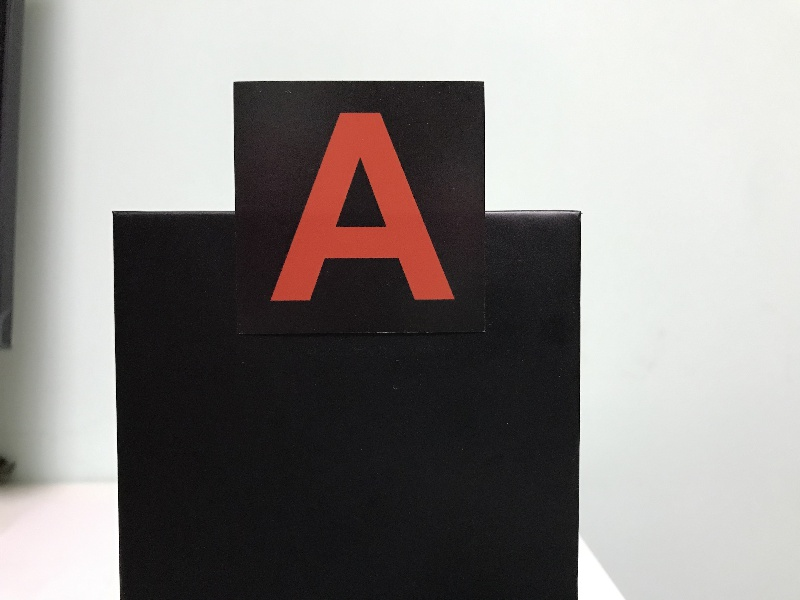A-11: (240, 84, 482, 328)
